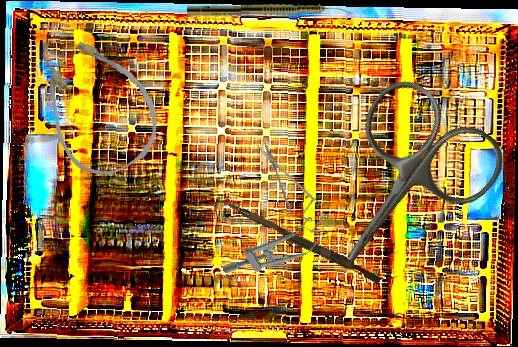Cannula: (19, 18, 174, 190)
Handpiece: (186, 2, 353, 19)
Iris Scissors: (281, 68, 517, 313)
Micro Scissor: (248, 134, 335, 244)
Pusher: (219, 199, 384, 285)
Speculum: (216, 195, 343, 296)
